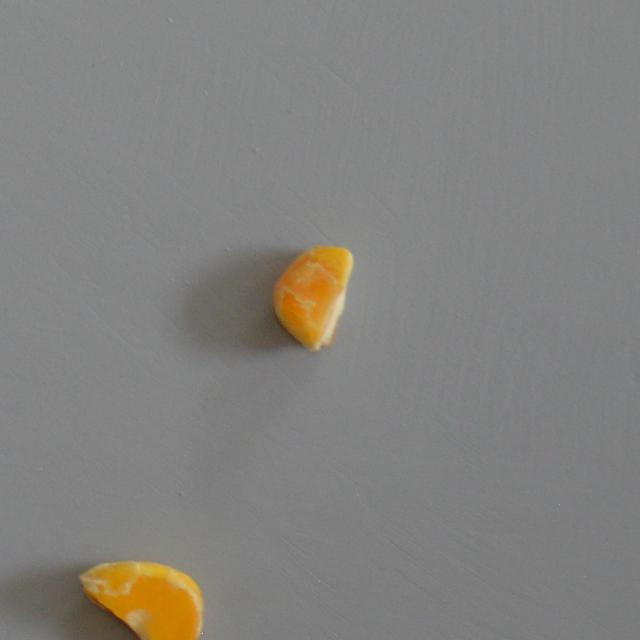pelicula: (72, 559, 202, 640), (268, 242, 356, 351)
